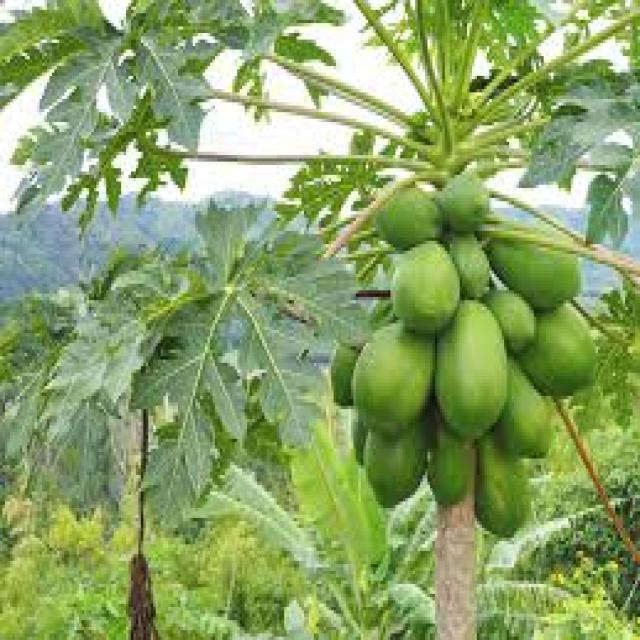Organik: (334, 317, 432, 425), (494, 292, 590, 402), (491, 216, 585, 320), (432, 296, 498, 434), (480, 361, 556, 461), (382, 244, 464, 332), (474, 425, 540, 533), (350, 402, 410, 509), (362, 326, 428, 421), (418, 424, 476, 530), (429, 160, 501, 240), (376, 176, 442, 250), (444, 224, 503, 297)
